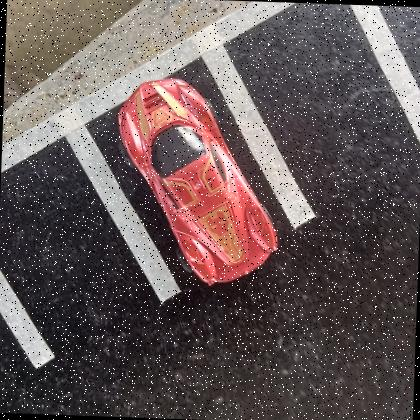Car: (117, 76, 277, 284)
